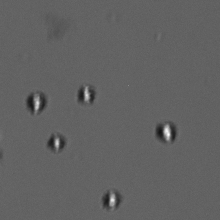Living Cell: (24, 90, 50, 116), (154, 119, 179, 144), (75, 84, 99, 106), (102, 188, 123, 211), (46, 132, 67, 152)
